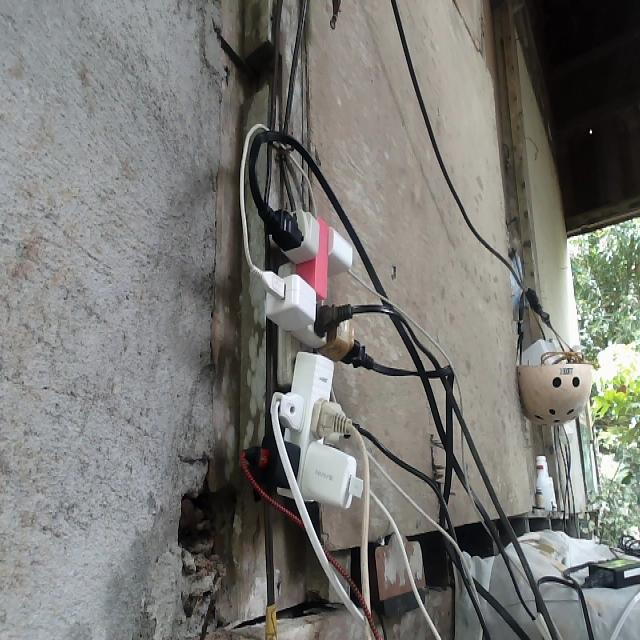-: (240, 121, 380, 508)
